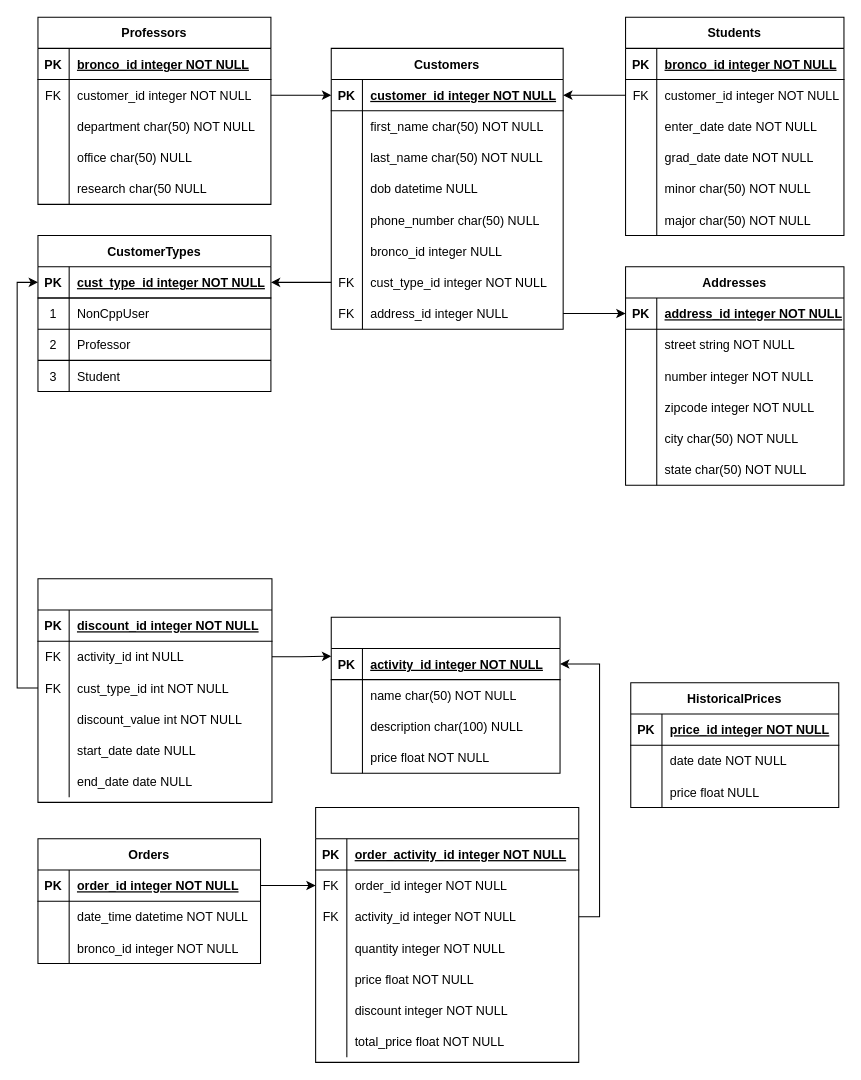
Some shapes in this 861 by 1080 pixel diagram are drawn without their labels. The box of each missing label's shape, as (x1, y1, x2, y2) in pixels:
Activities: (330, 616, 560, 773)
Discounts: (37, 578, 272, 802)
OrderActivities: (315, 807, 579, 1062)
